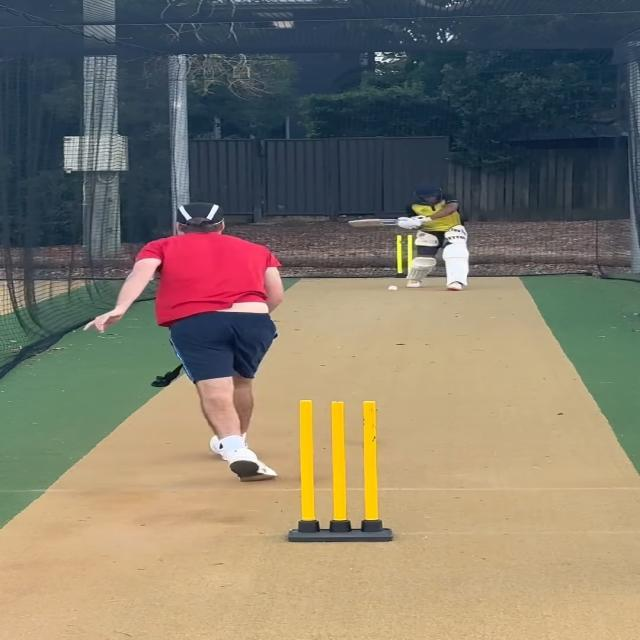ball: (387, 284, 400, 292)
stump: (284, 397, 394, 546), (392, 233, 413, 280)
